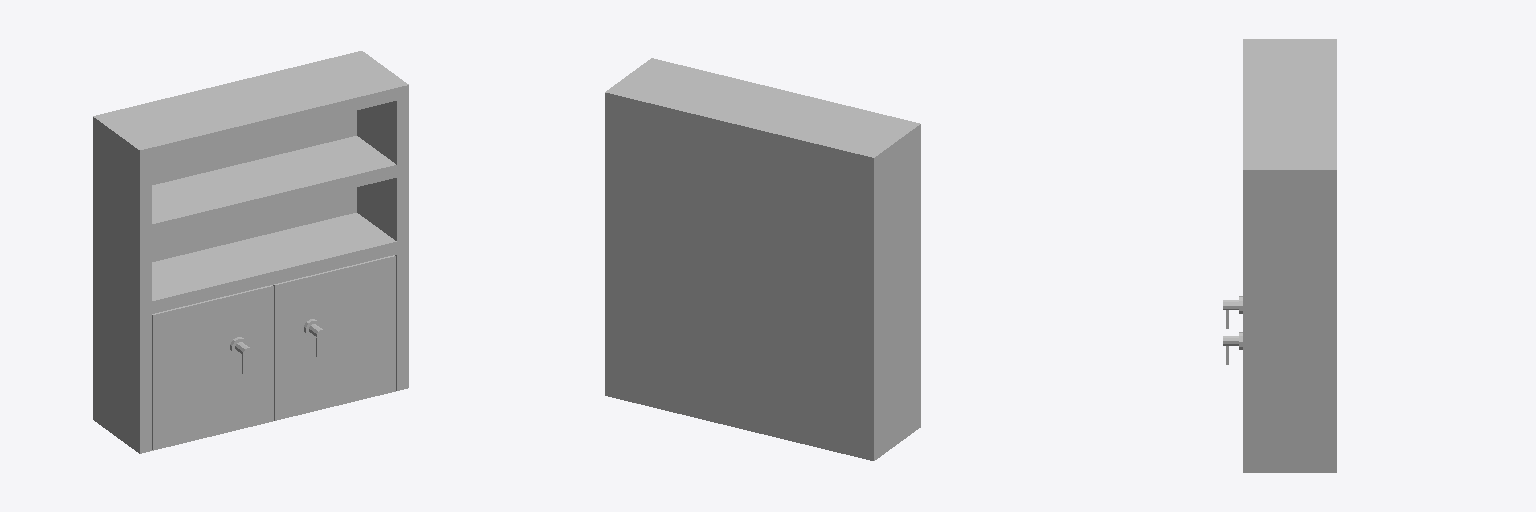
File: Estanteria.obj
3 views of the same model, side by side, from view 1: azimuth 30°, elevation 25°; view 2: azimuth 150°, elevation 25°; view 3: azimuth 270°, elevation 25° (orthographic).
Visible parts, largest first — view 1: Cubo; view 2: Cubo; view 3: Cubo.
Part boxes in pixels (x1,y1,x2,y2): Cubo: (93,51,408,453); Cubo: (605,58,920,460); Cubo: (1243,39,1336,472).
Bounding box in the file's own units: 2.2 × 2.37 × 0.8082.